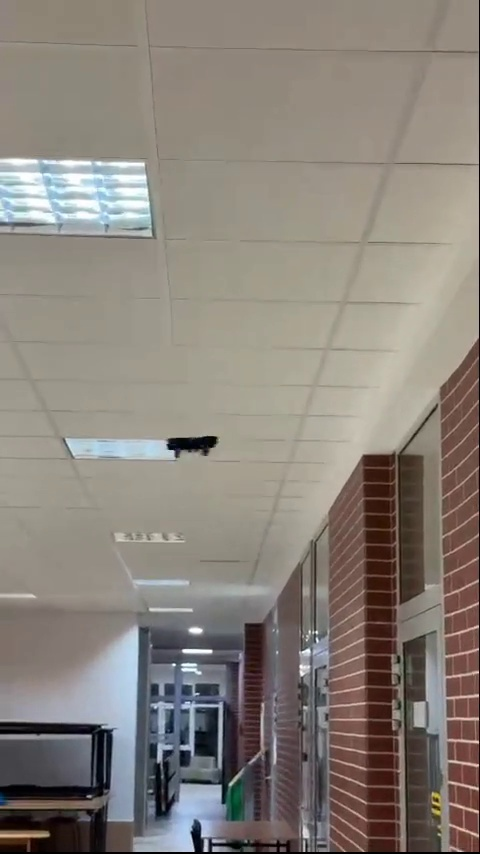drone: (165, 433, 221, 458)
